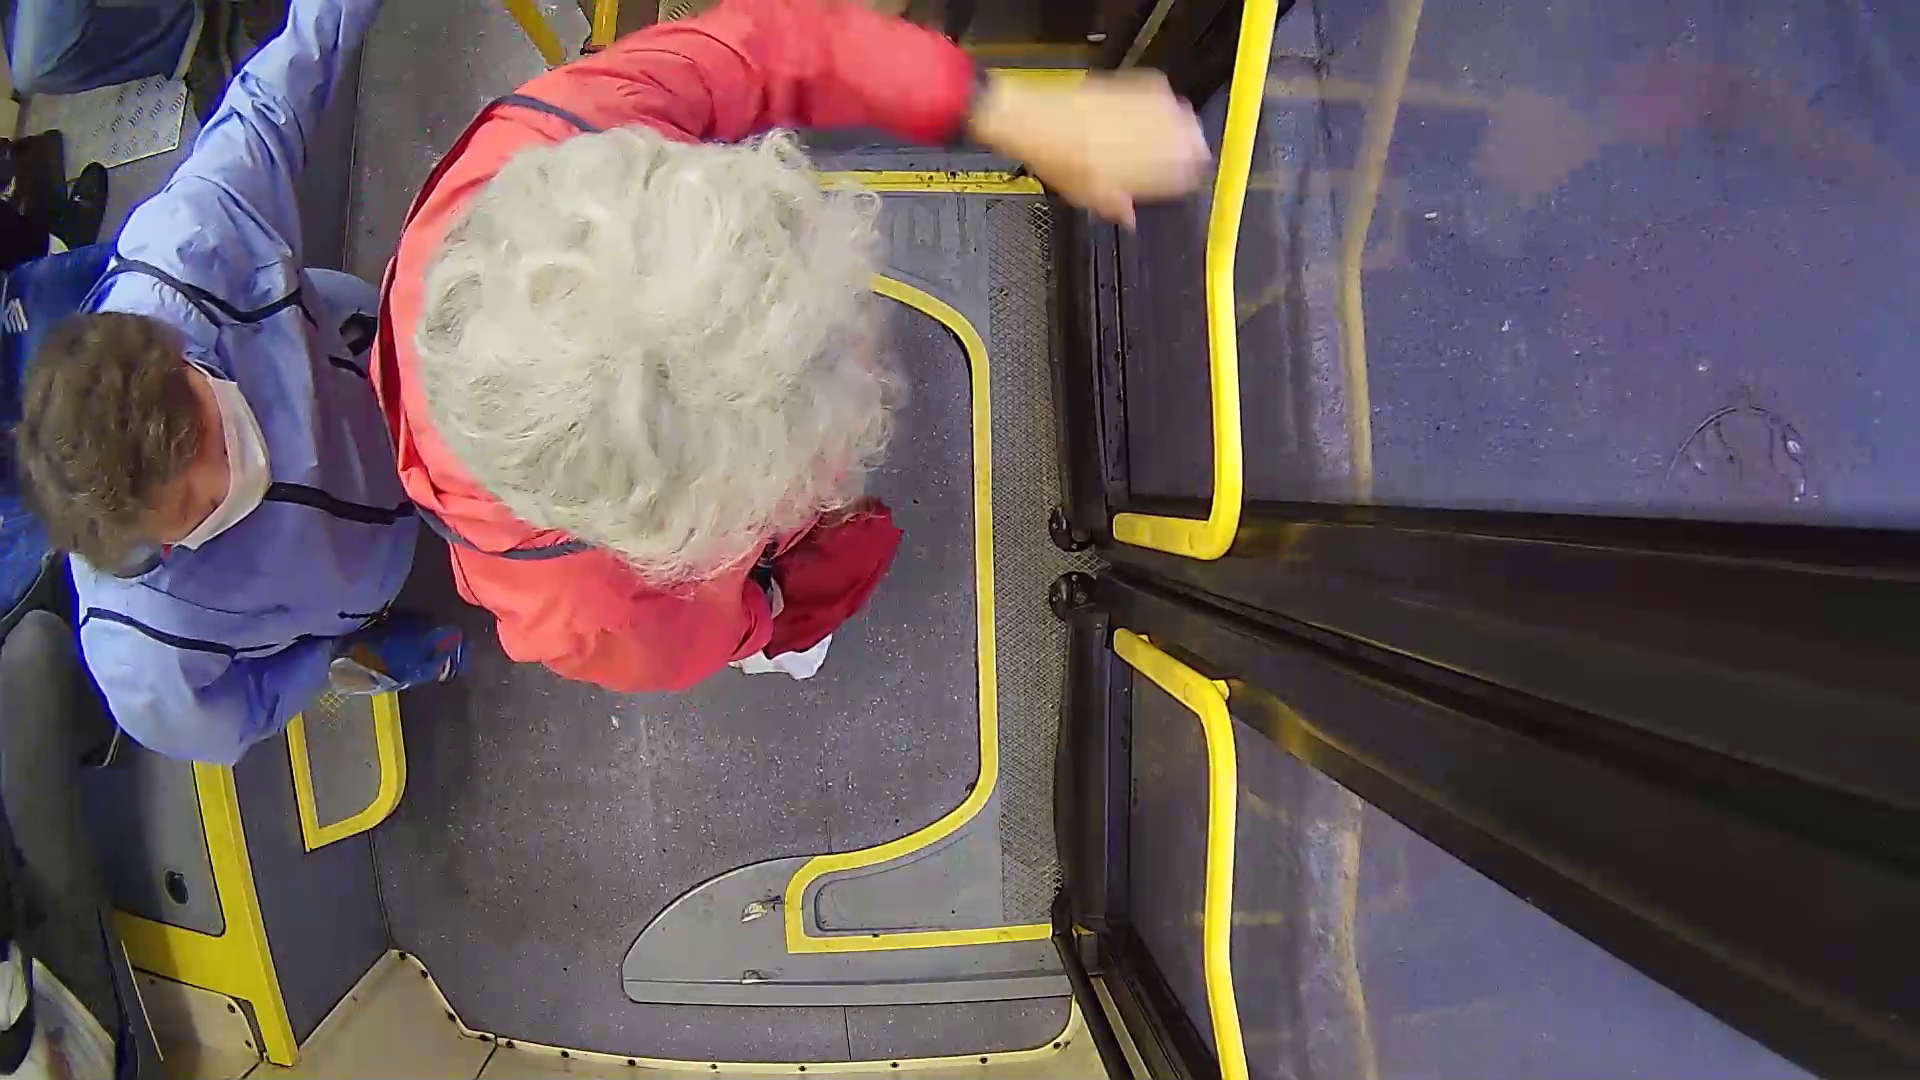person: (341, 61, 987, 681), (30, 91, 487, 778)
